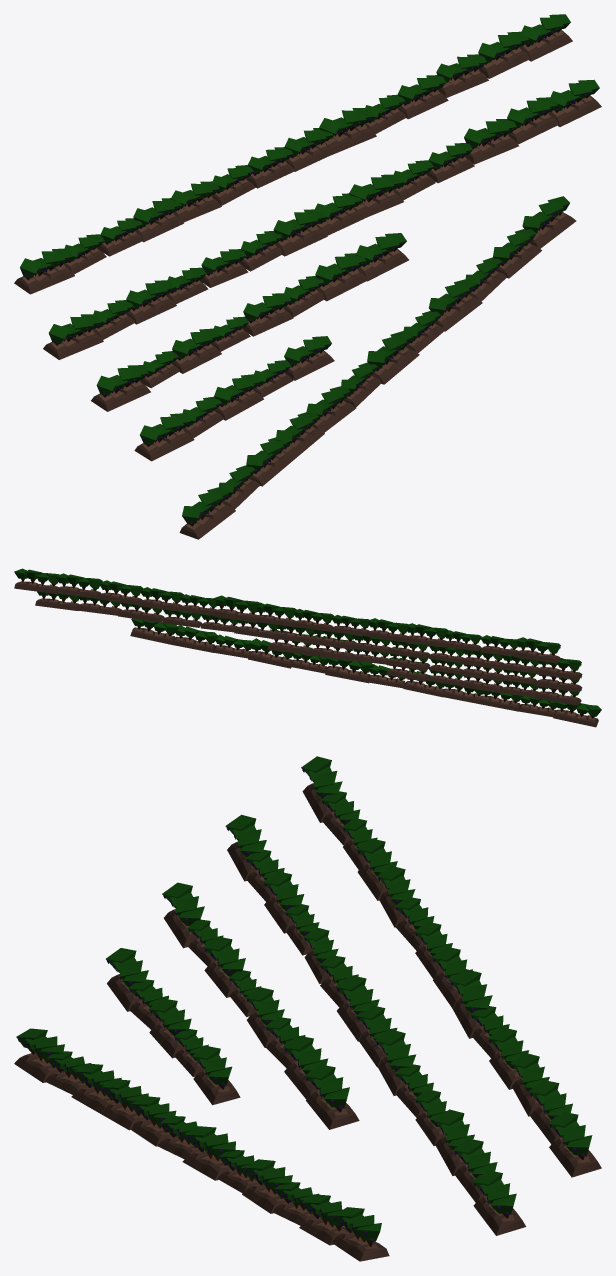
File: e_trees_vineyard.fbx
The picture shows the model from 3 angles, top to bottom: view 1: azimuth 30°, elevation 25°; view 2: azimuth 150°, elevation 25°; view 3: azimuth 270°, elevation 25°; orthographic projection. The views are drawn at different scales.
Visible parts, largest first — view 1: e_trees_vineyard; view 2: e_trees_vineyard; view 3: e_trees_vineyard.
Boxes of the visible parts, x1=… form: e_trees_vineyard: x1=14, y1=14, x2=601, y2=539; e_trees_vineyard: x1=14, y1=568, x2=601, y2=727; e_trees_vineyard: x1=14, y1=756, x2=601, y2=1261.
Size of the model in its own units: 64.98 by 21.59 by 38.76.
